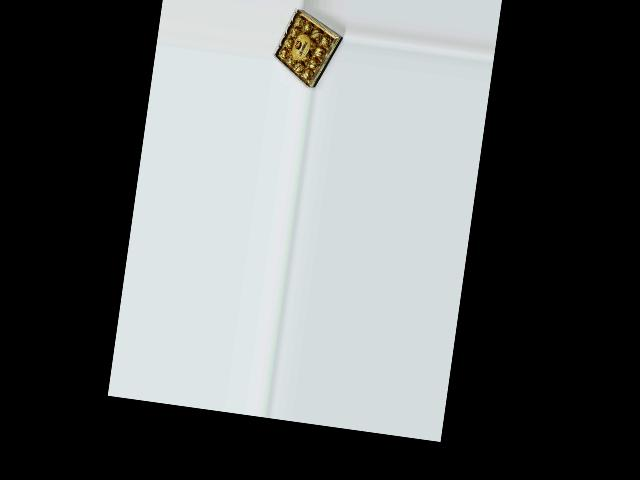chocolate: (269, 5, 347, 92)
